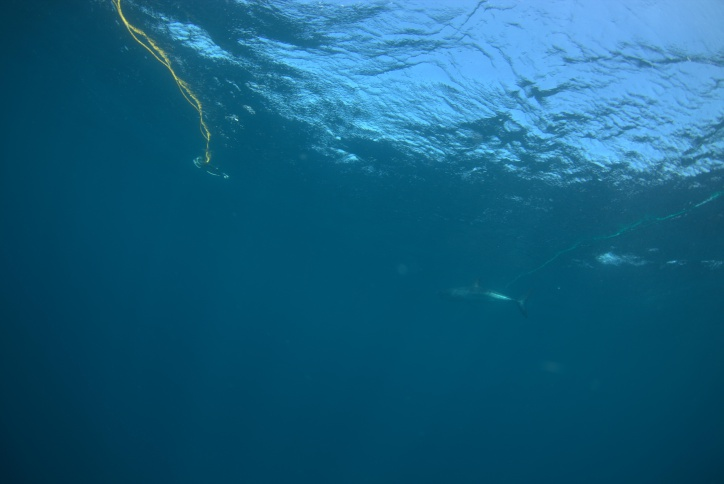Mako: (422, 270, 542, 320)
